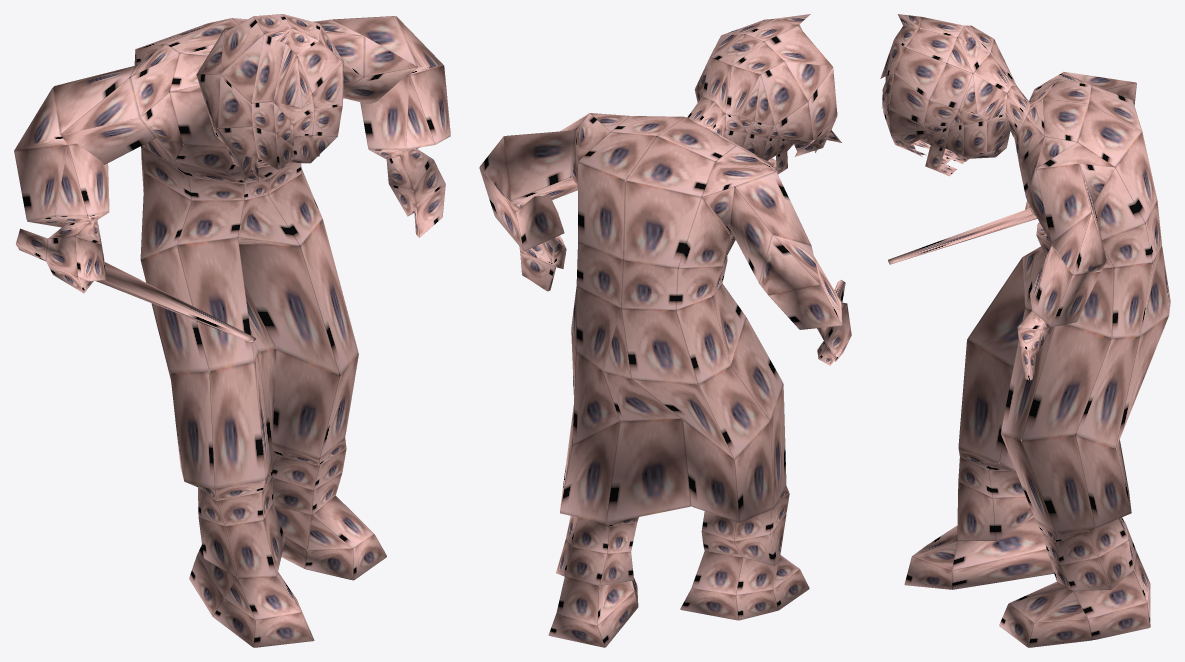
The picture shows the model from 3 angles, left to right: view 1: azimuth 30°, elevation 25°; view 2: azimuth 150°, elevation 25°; view 3: azimuth 270°, elevation 25°; orthographic projection. The views are drawn at different scales.
Parts seen in each view (by area): view 1: T1L7M004_0; view 2: T1L7M004_0; view 3: T1L7M004_0.
Part boxes in pixels (x1=…): T1L7M004_0: x1=14, y1=14, x2=450, y2=647; T1L7M004_0: x1=479, y1=14, x2=851, y2=647; T1L7M004_0: x1=880, y1=14, x2=1170, y2=647.
Size of the model in its own units: 0.8007 by 1.15 by 0.546.
